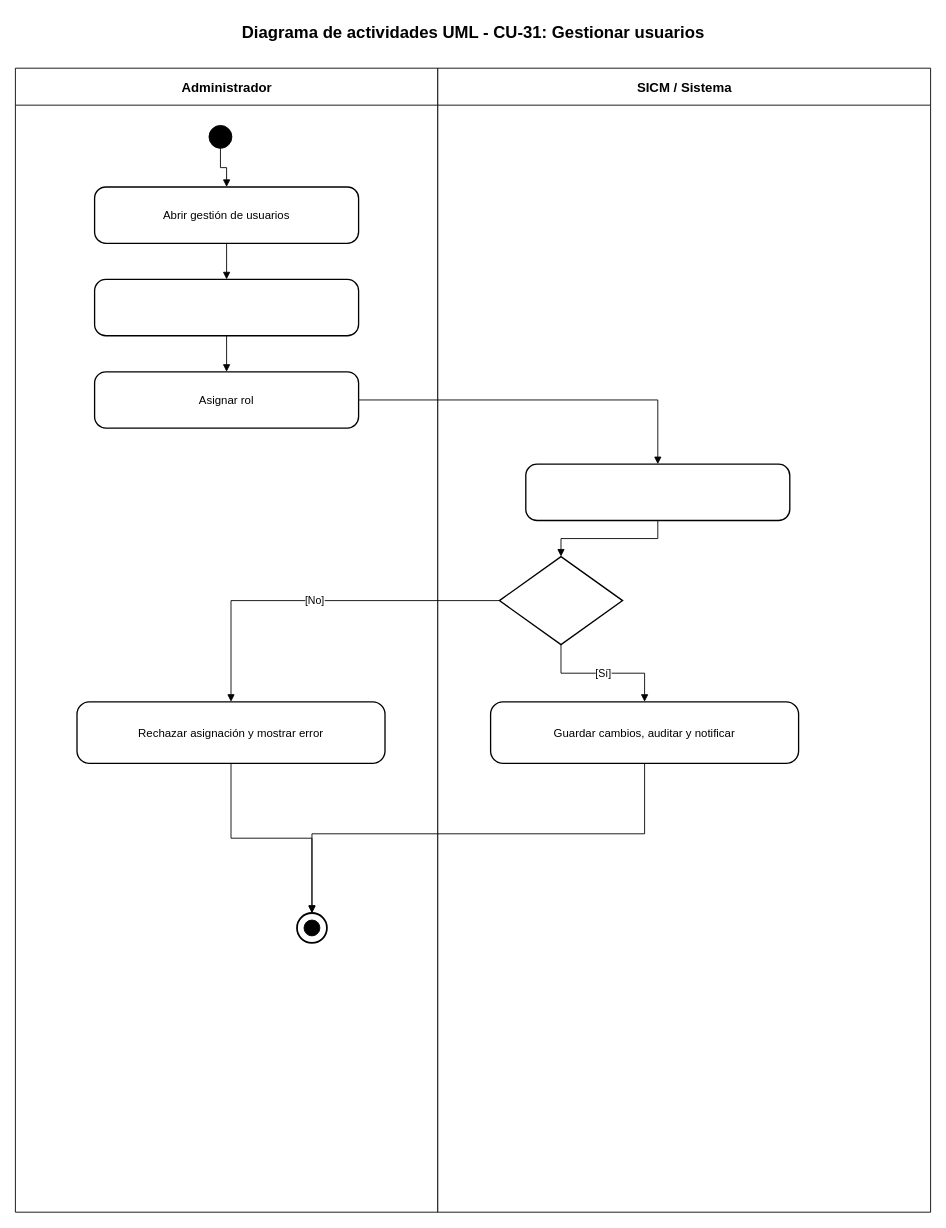
Image size: 946x1228. Some labels were removed from this diagram. The box of each missing label's shape, as (x1, y1, x2, y2) in pixels:
Crear, editar o desactivar cuenta: (94, 278, 359, 336)
Validar rol y datos de cuenta: (525, 463, 790, 521)
¿Datos y rol válidos?: (498, 556, 623, 645)
